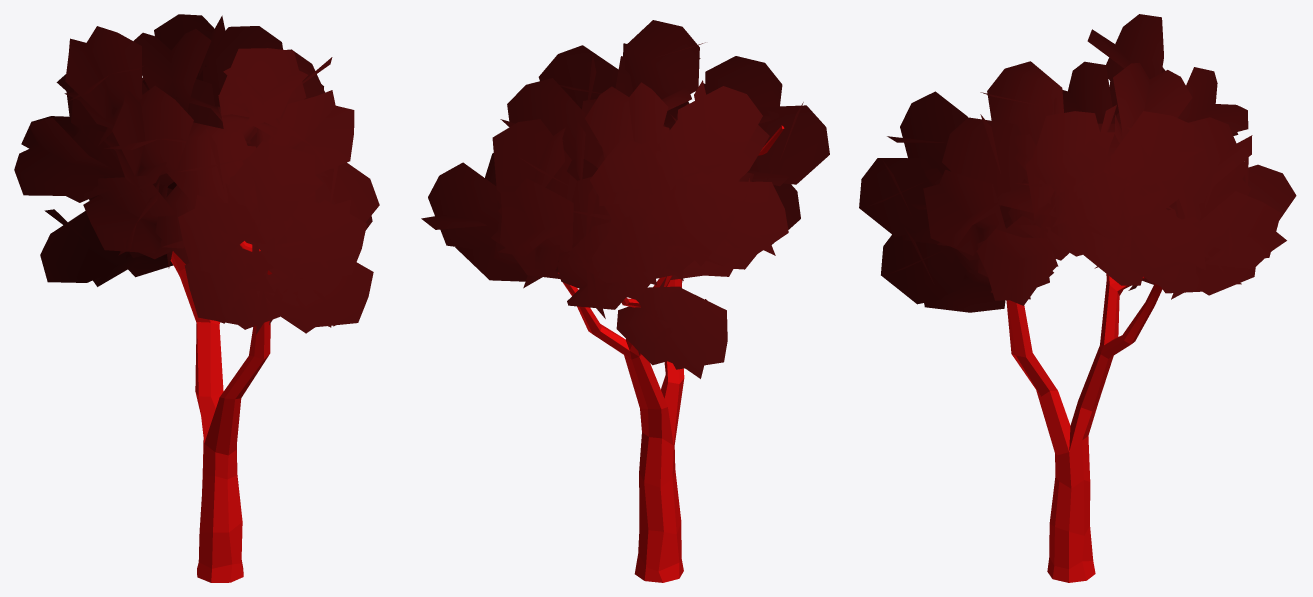
Rendered from SM_Tree_Generic_01.glb.
3 views of the same model, side by side, from view 1: azimuth 30°, elevation 25°; view 2: azimuth 150°, elevation 25°; view 3: azimuth 270°, elevation 25° (orthographic). The views are drawn at different scales.
Visible parts, largest first — view 1: SM_Tree_Generic_01; view 2: SM_Tree_Generic_01; view 3: SM_Tree_Generic_01.
Part boxes in pixels (x1,y1,x2,y2): SM_Tree_Generic_01: (14, 14, 379, 582); SM_Tree_Generic_01: (421, 20, 829, 582); SM_Tree_Generic_01: (859, 14, 1296, 582).
Bounding box in the file's own units: 3.43 × 5.6 × 4.23.
